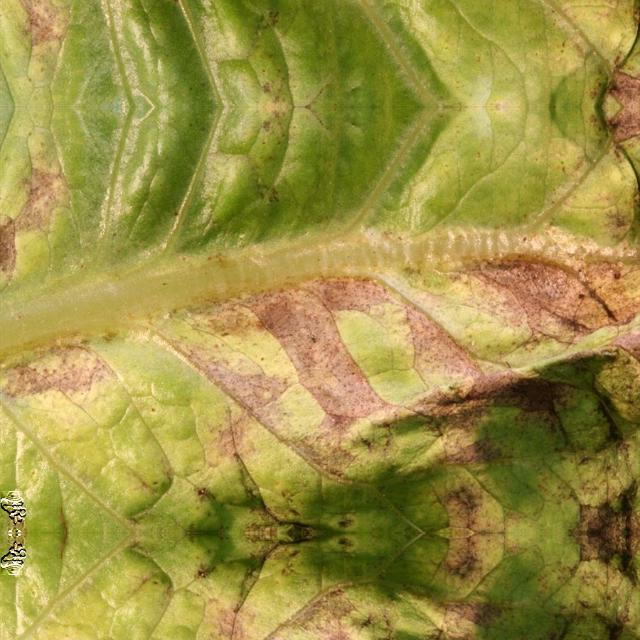Lettuce - Anthracnose: (2, 105, 640, 532), (2, 532, 640, 640), (2, 0, 640, 106)
